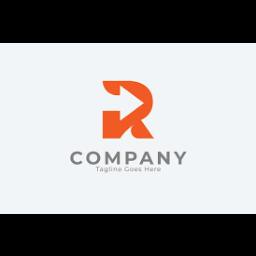y: (172, 147, 188, 167)
